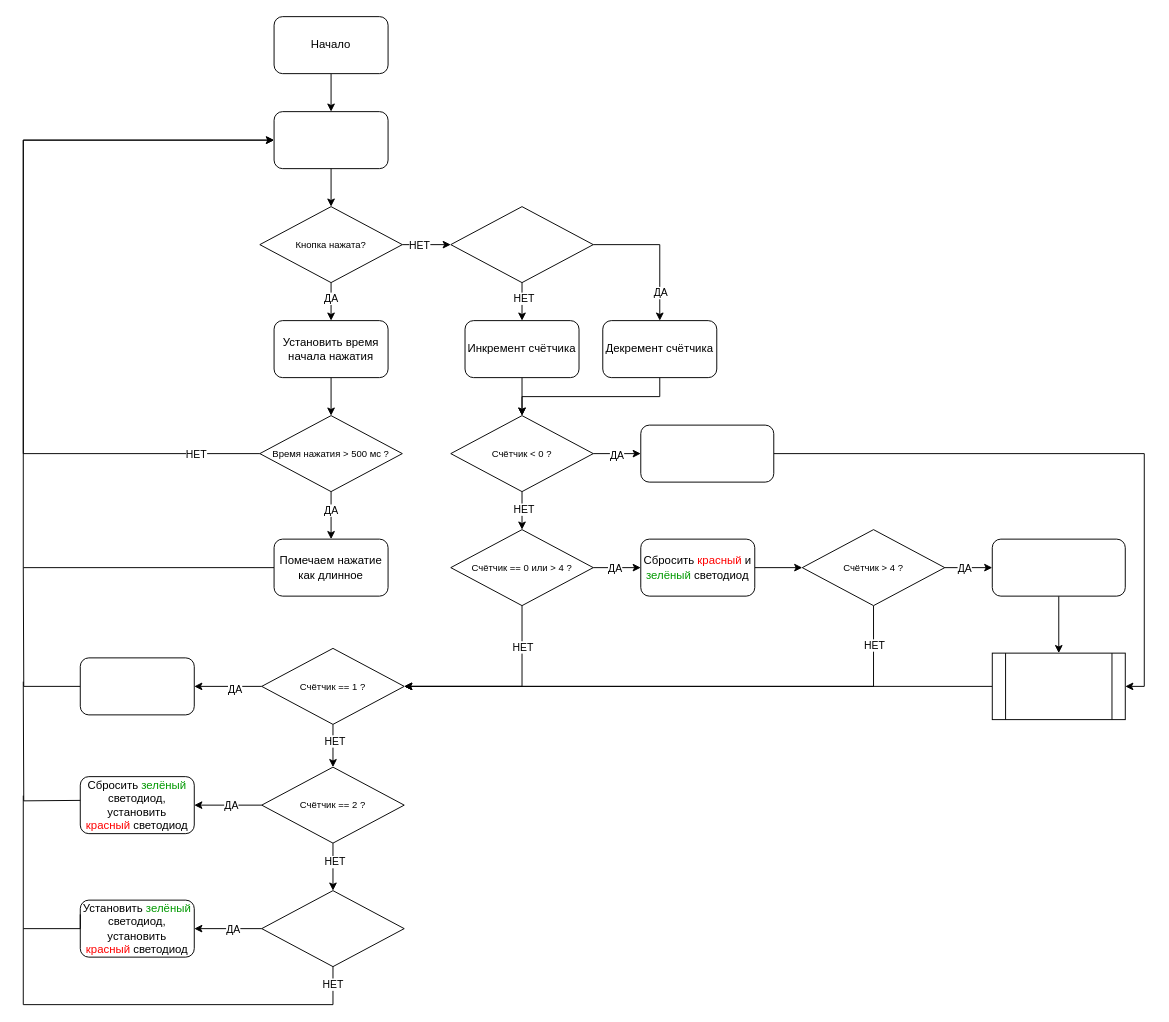
Some shapes in this 1169 by 1022 pixel diagram are drawn without their labels. The centre of each missing label's shape, as x and y in pixels:
"Длинное нажатие?" goes at point 521,244.
"Запуск подпрограммы анимации переполнения" goes at point 1058,686.
"Получить состояние кнопки" goes at point 330,140.
"Счётчик == 3 ?" goes at point 332,928.
"Устанавливаем значение счётчика = 0, инкремент счётчика переполнения" goes at point 1058,567.
"Устанавливаем значение счётчика = 3, декремент счётчика переполнения" goes at point 707,453.
"Установить зелёный светодиод, сбросить красный светодиод" goes at point 136,686.
